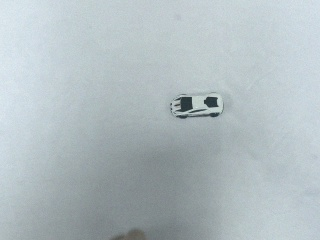toy_car: (170, 93, 224, 119)
